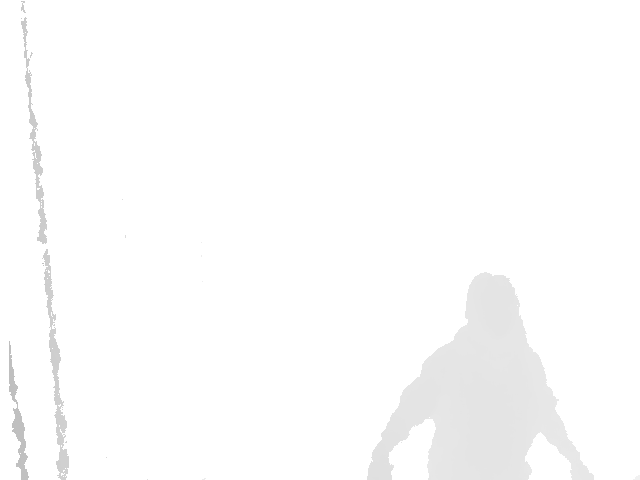head: (463, 272, 524, 344)
person: (367, 272, 594, 480)
